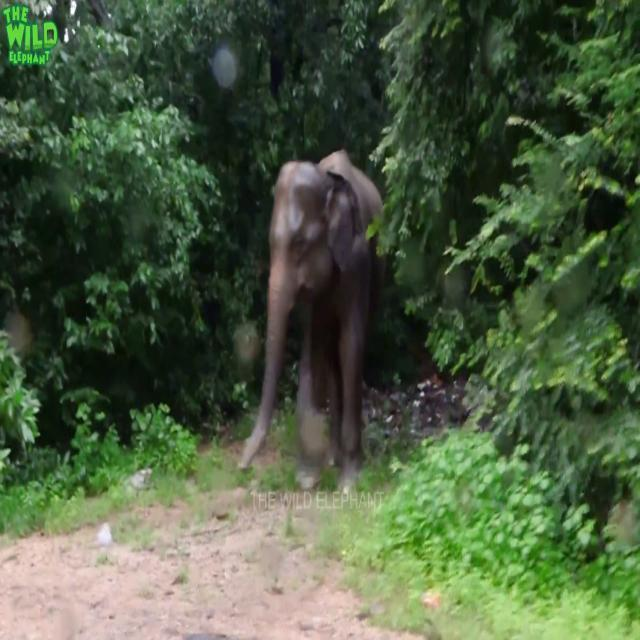Elephant: (237, 148, 386, 493)
